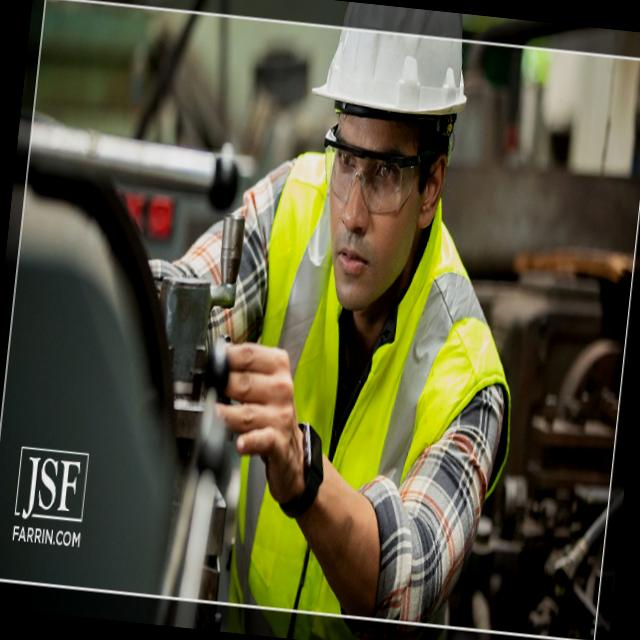goggles: (311, 115, 444, 222)
helmet: (305, 0, 482, 133)
vest: (232, 251, 469, 640)
